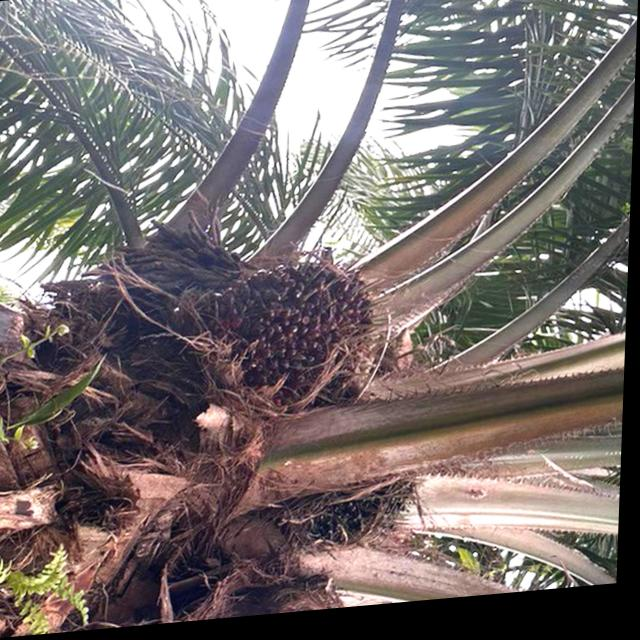ripe: (229, 245, 387, 408), (301, 471, 430, 572)
